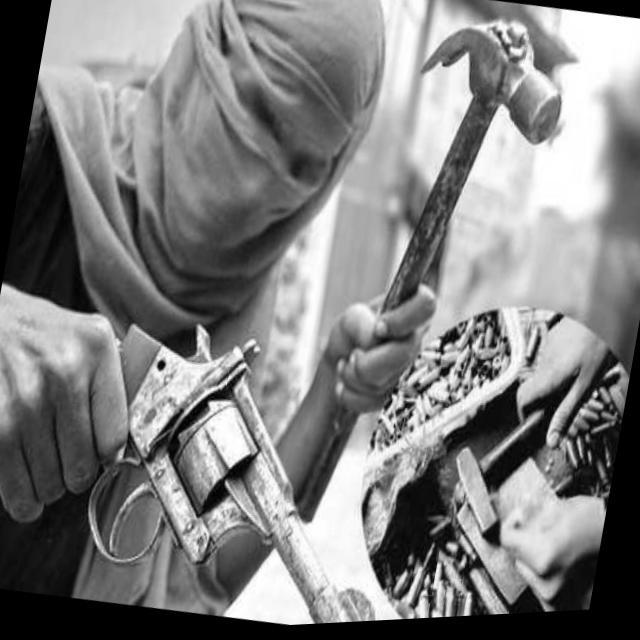weapon: (0, 261, 433, 640)
